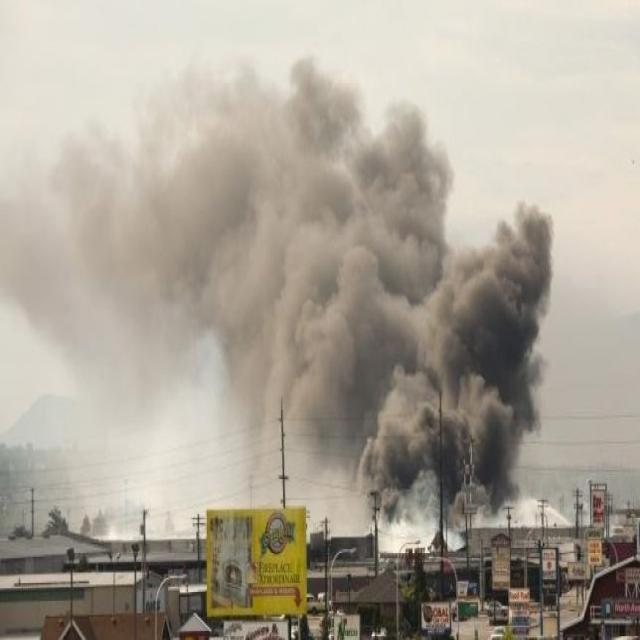Fire: (202, 504, 309, 614)
Smoke: (81, 22, 562, 522)
